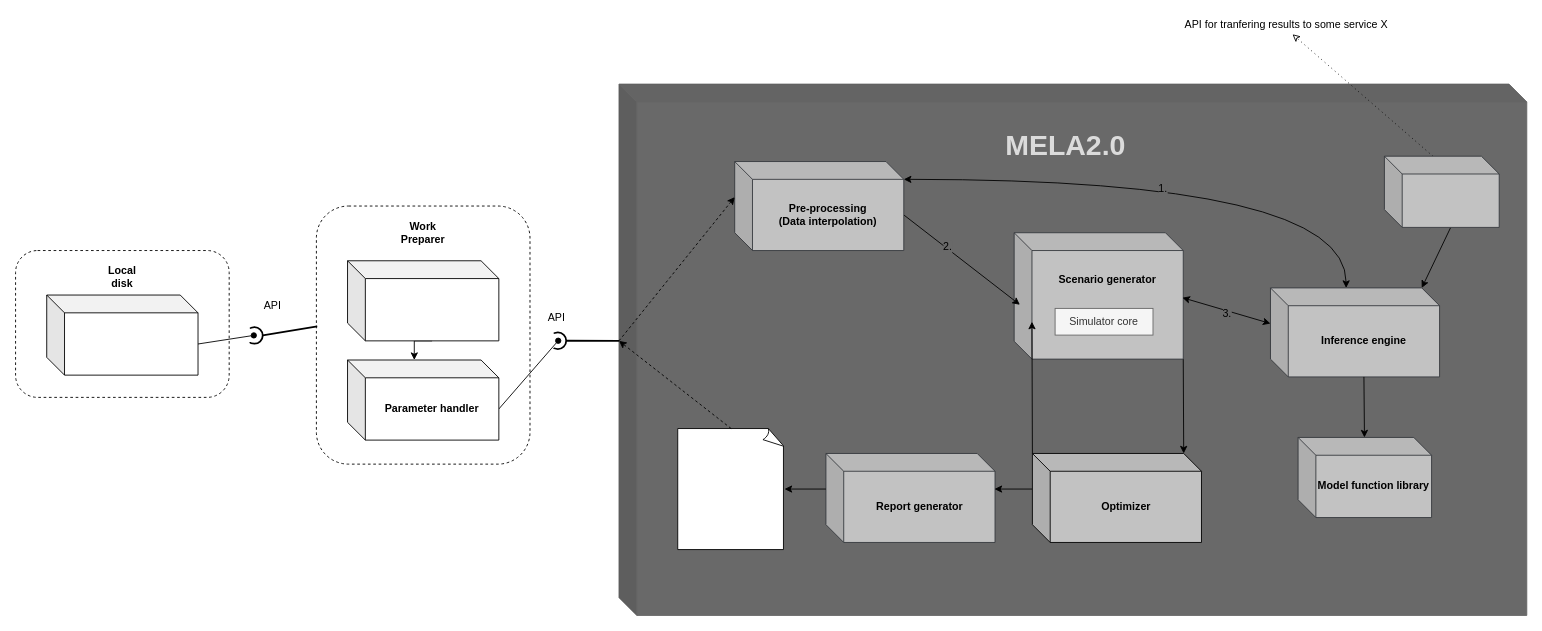
This 1542x631 diagram has some shape labels left out. The shapes that lost their labels are listed below. From the top down, each one's centre as x and y in pixels, then its label:
At [1441,191]: "Statistics tool".
At [423,300]: "Decoder".
At [122,334]: "User application".
At [731,489]: "Results of computation".
